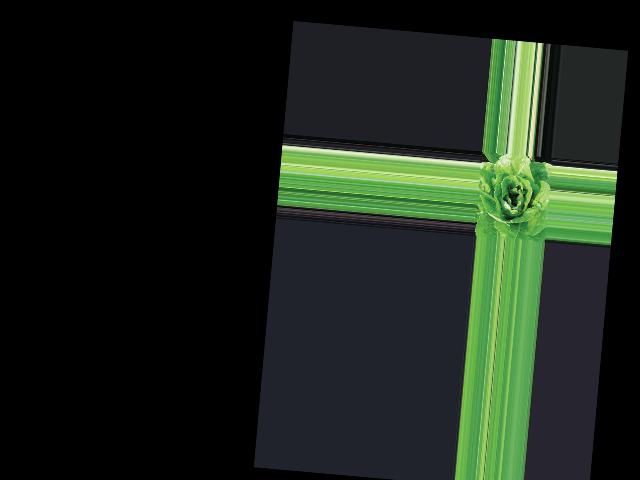lettuce: (473, 155, 550, 240)
